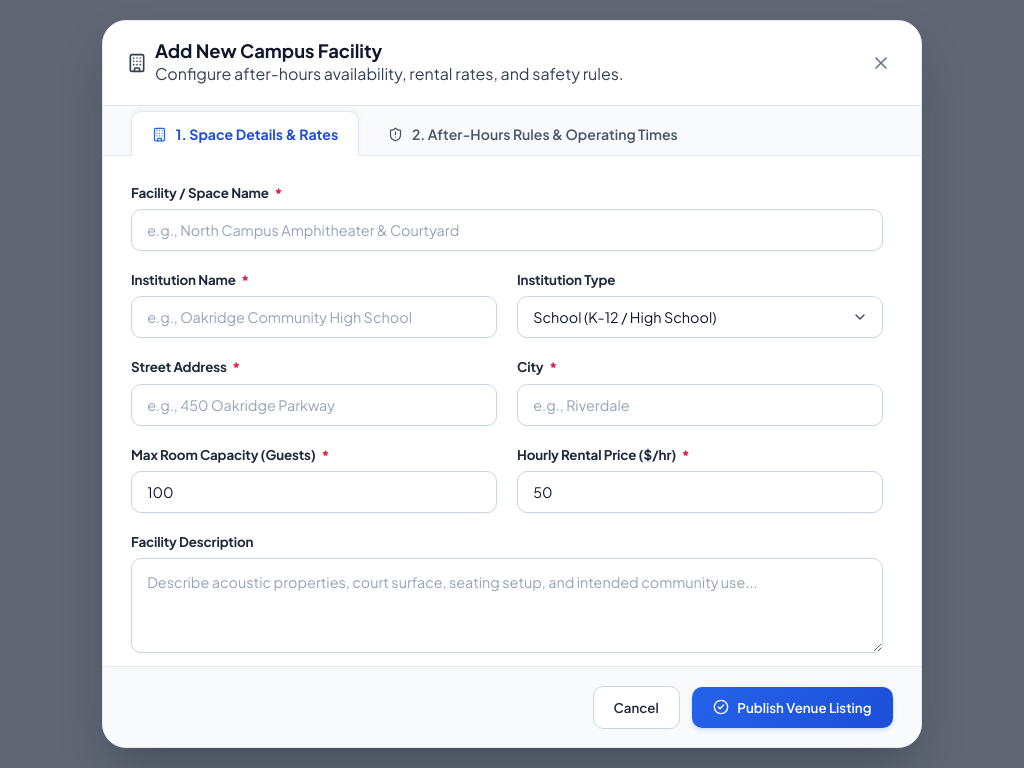
Test: Venue Listing Management (Phase 5) › VenueModal Form › renders in create mode and validates required fields
Expected: the heading "Add New Campus Facility" is shown, [155,39,382,62]
# Clear the name input and submit
Clear the field labelled "Facility / Space Name *" at x=507, y=230, box [131,209,883,251]
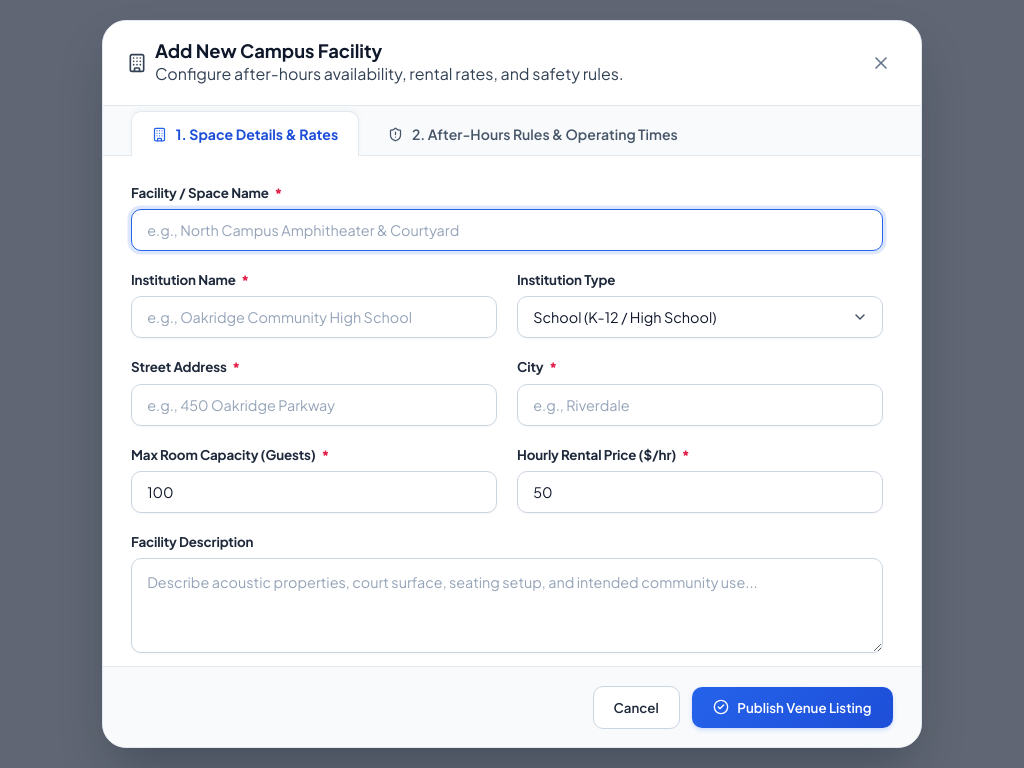
Click the button "Publish Venue Listing".
click(792, 707)  # box [692,687,893,728]
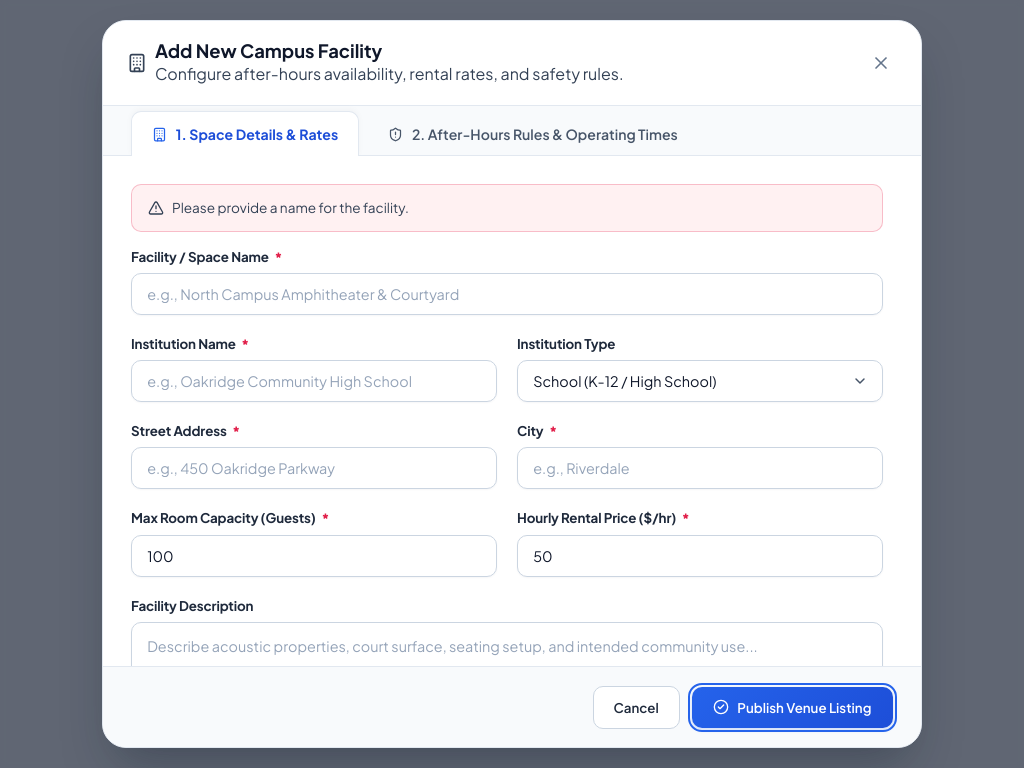
Expected: the text "Please provide a name for the facility." is shown, [172,197,409,219]
